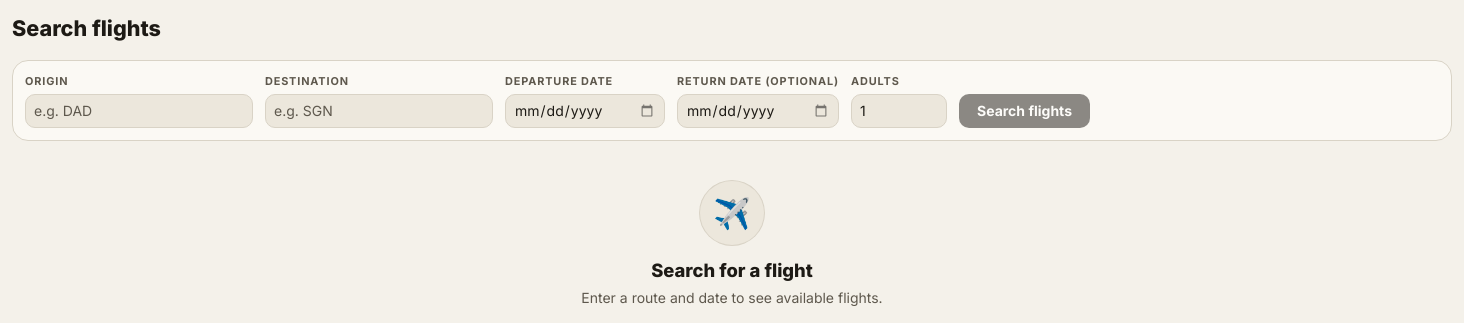
Test case: FlightsPage › searches and lists results, with no booking control on the page
The image size is (1464, 323).
Step 1. Type "dad" into the field labelled "Origin" → (139, 111), box top-left (25, 94), bottom-right (253, 128)
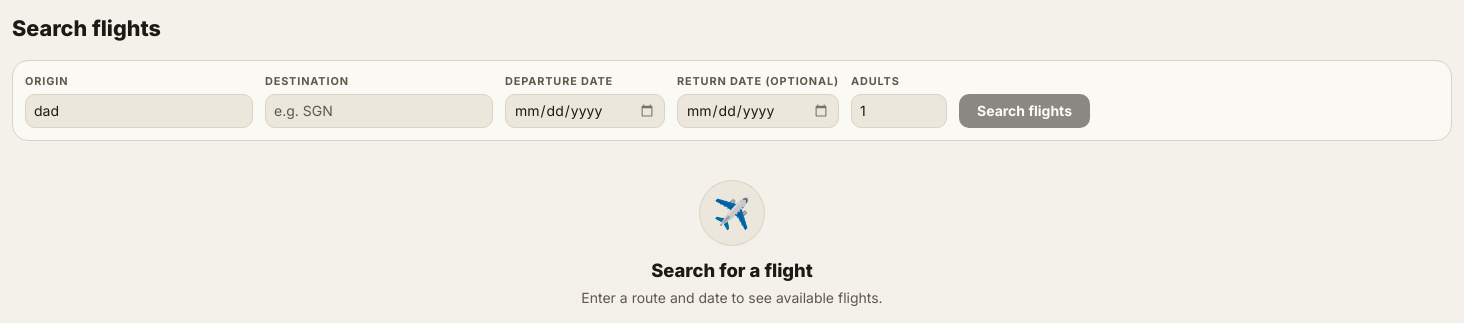
Step 2. Type "sgn" into the field labelled "Destination" → (379, 111), box top-left (265, 94), bottom-right (493, 128)
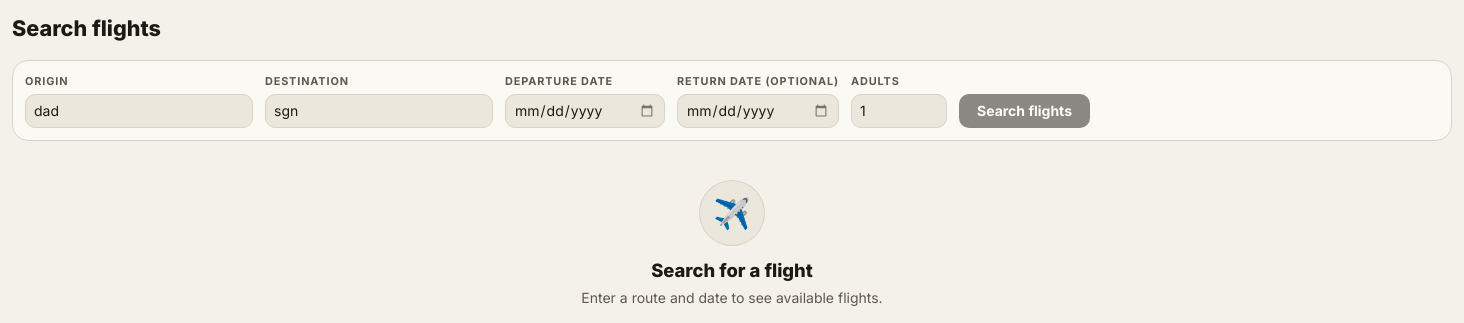
Step 3. Type "2026-06-01" into the date field labelled "Departure date" → (585, 111), box top-left (505, 94), bottom-right (665, 128)
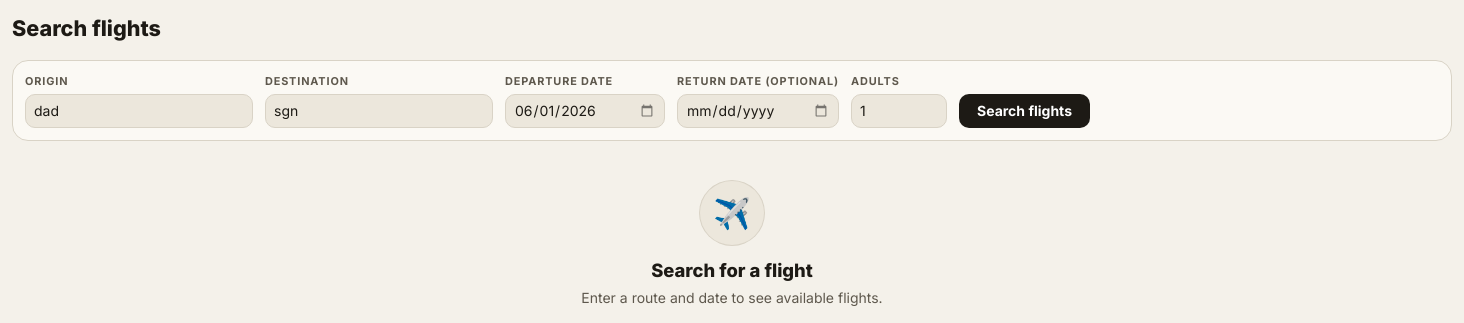
Step 4. Click the button "Search flights" → (1024, 111), box top-left (959, 94), bottom-right (1090, 128)
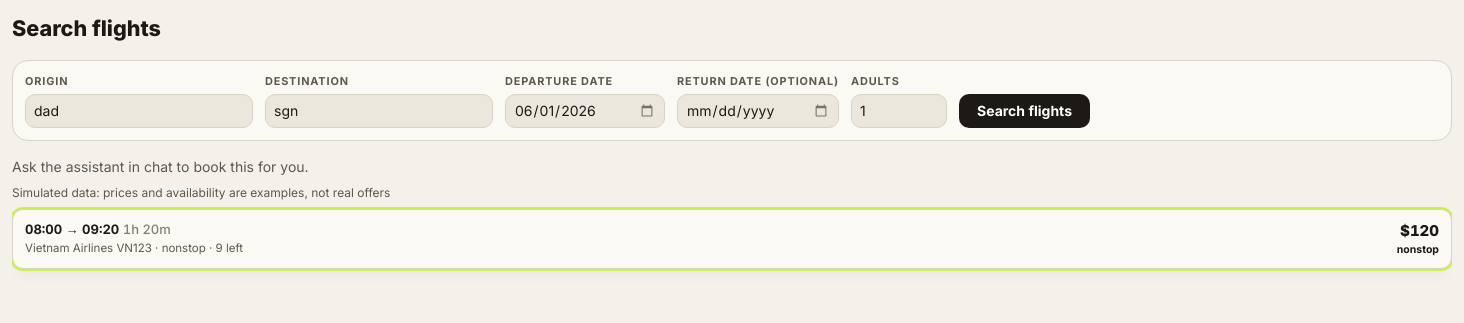
Now the text "Vietnam Airlines VN123 · nonstop · 9 left" is shown, box top-left (25, 241), bottom-right (243, 255)
Now the text "Ask the assistant in chat to book this for you." is shown, box top-left (12, 158), bottom-right (309, 175)
Now the text "Simulated data: prices and availability are examples, not real offers" is shown, box top-left (12, 185), bottom-right (390, 200)
